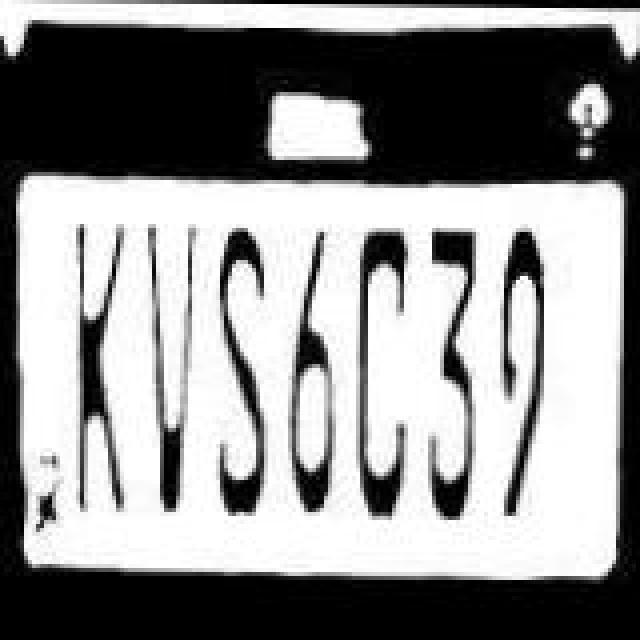3: (418, 222, 486, 526)
6: (282, 216, 342, 512)
9: (494, 216, 562, 532)
C: (348, 218, 428, 518)
K: (62, 210, 138, 506)
S: (206, 220, 282, 520)
V: (138, 214, 206, 502)
